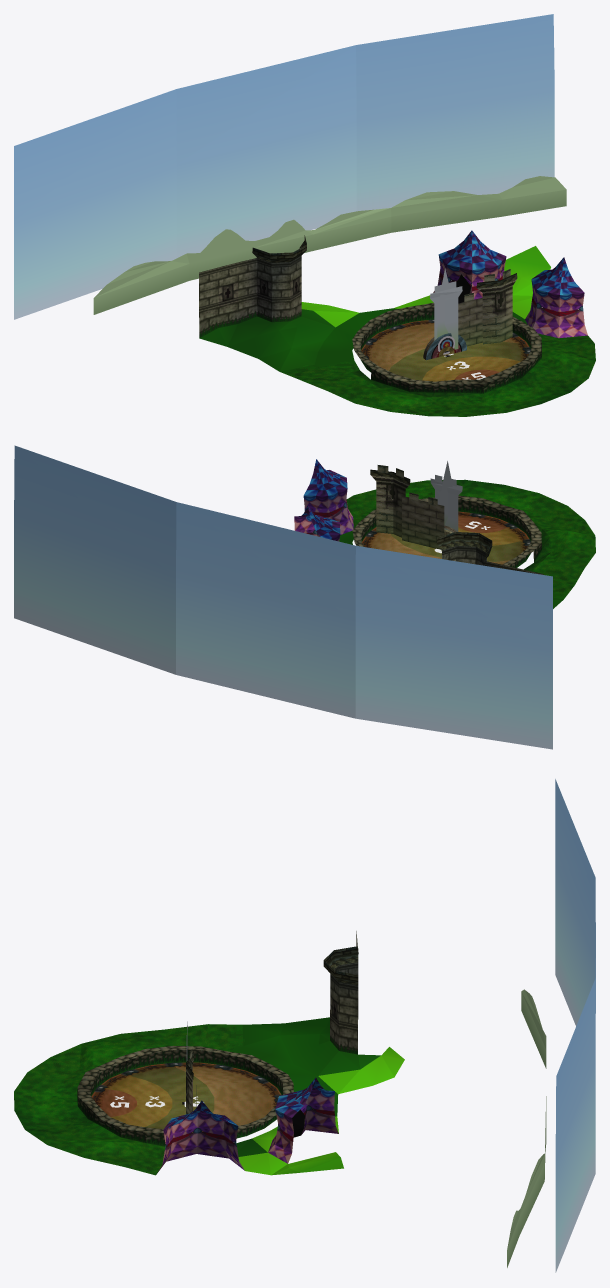
3 renders of one model, top to bottom at view 1: azimuth 30°, elevation 25°; view 2: azimuth 150°, elevation 25°; view 3: azimuth 270°, elevation 25°, orthographic. The views are drawn at different scales.
Visible parts, largest first — view 1: extra_3b94, extra_2694, extra_4114, extra_5320, extra_46d4, extra_132c, extra_4c04, extra_4948, extra_45bc, extra_18b8; view 2: extra_3b94, extra_2694, extra_5320, extra_46d4, extra_132c, extra_4c04, extra_45bc, extra_4ac8, extra_4948; view 3: extra_2694, extra_3b94, extra_5320, extra_132c, extra_4114, extra_4c04, extra_4948, extra_4ac8.
Part boxes in pixels (x1,y1,x2,y2): extra_3b94: (14, 14, 554, 319); extra_2694: (199, 230, 595, 415); extra_4114: (93, 176, 566, 314); extra_5320: (428, 359, 588, 416); extra_46d4: (458, 269, 517, 346); extra_132c: (361, 319, 531, 370); extra_4c04: (389, 341, 520, 380); extra_4948: (422, 356, 519, 381); extra_45bc: (430, 281, 462, 353); extra_18b8: (423, 333, 466, 360); extra_3b94: (14, 445, 552, 749); extra_2694: (294, 459, 595, 608); extra_5320: (428, 479, 584, 532); extra_46d4: (370, 465, 444, 549); extra_132c: (362, 511, 530, 564); extra_4c04: (391, 533, 520, 561); extra_45bc: (430, 475, 462, 532); extra_4ac8: (458, 516, 505, 532); extra_4948: (458, 527, 519, 545); extra_2694: (48, 931, 404, 1175); extra_3b94: (555, 779, 595, 1272); extra_5320: (14, 1057, 109, 1144); extra_132c: (91, 1062, 281, 1135); extra_4114: (507, 989, 546, 1267); extra_4c04: (132, 1068, 214, 1128); extra_4948: (109, 1076, 172, 1126); extra_4ac8: (103, 1089, 136, 1116).
Bounding box in the file's own units: 22.87 × 7.17 × 18.84.
Materials: 28 (27 with a texture image).
